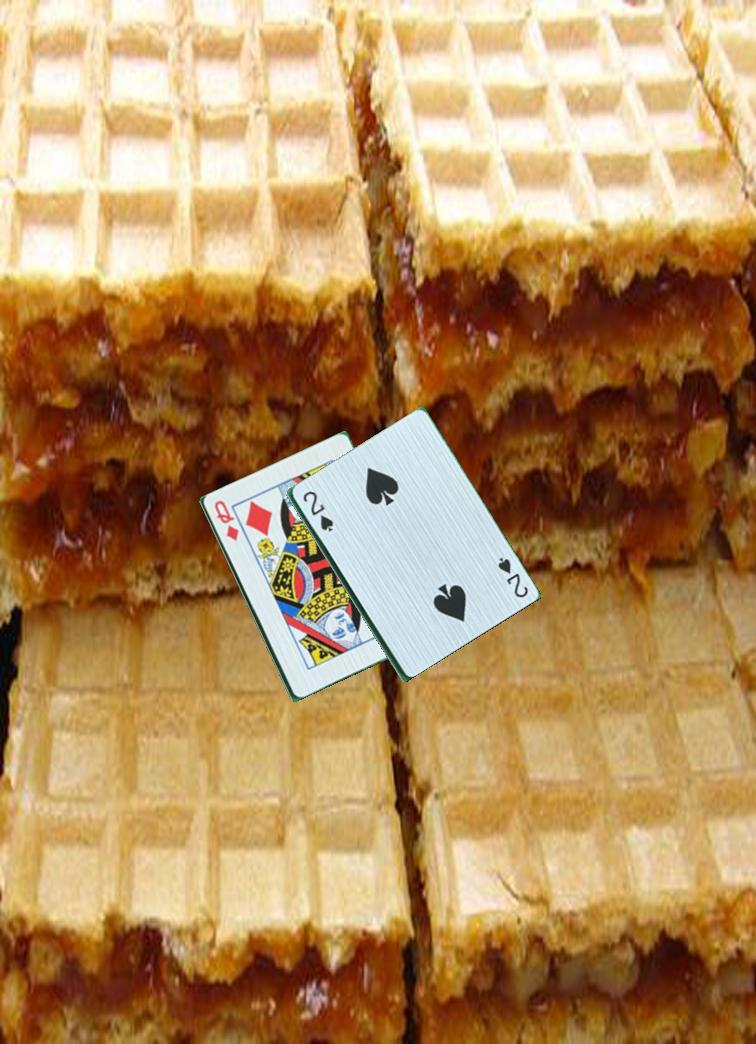2s: (488, 554, 531, 601), (299, 482, 335, 534)
qd: (210, 496, 241, 544)
